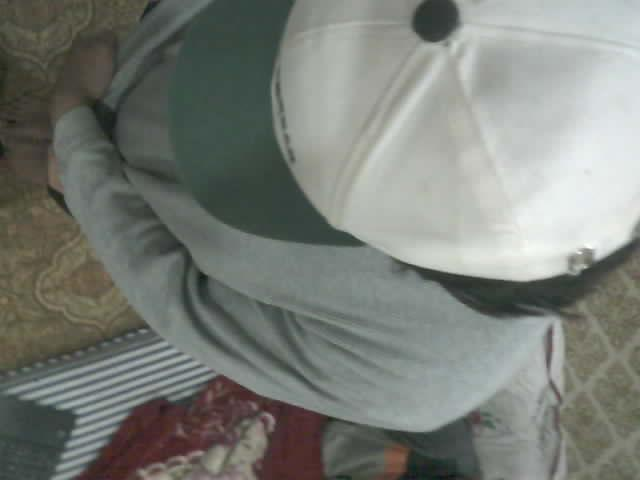cap: (165, 0, 639, 283)
